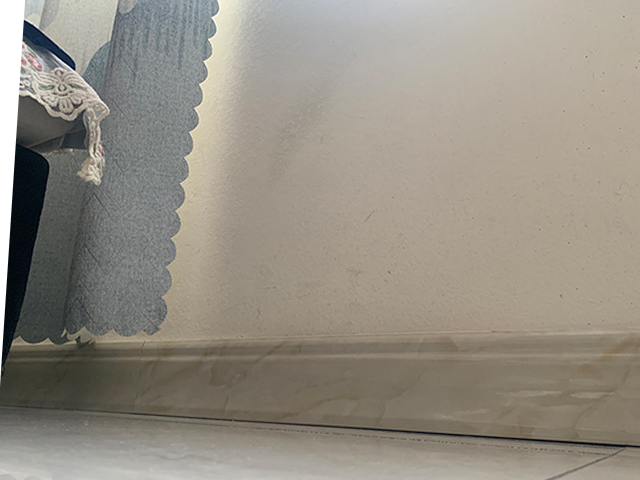curtain: (14, 1, 219, 345)
